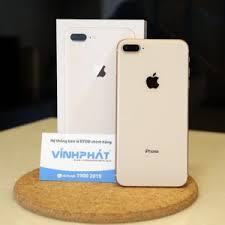iphone: (111, 37, 190, 190)
